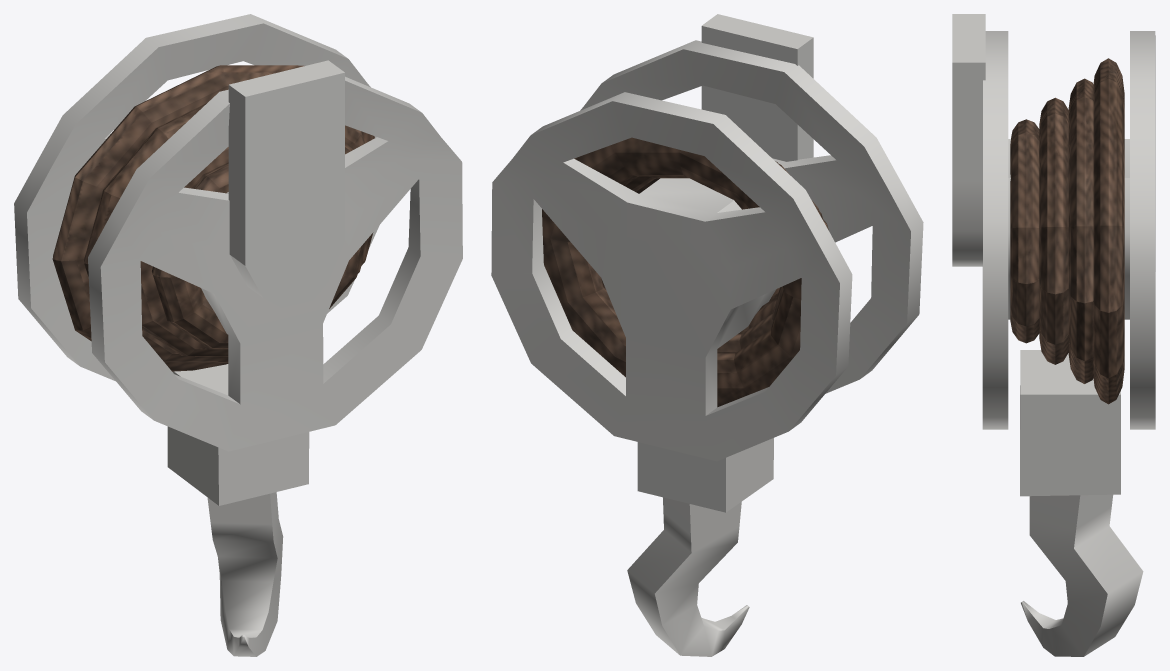
Rendered from Polea.fbx.
3 views of the same model, side by side, from view 1: azimuth 30°, elevation 25°; view 2: azimuth 150°, elevation 25°; view 3: azimuth 270°, elevation 25° (orthographic). The views are drawn at different scales.
Parts seen in each view (by area): view 1: Cube.014; view 2: Cube.014; view 3: Cube.014.
Boxes of the visible parts, x1,y1,x2,y2 form: Cube.014: (14, 14, 462, 656); Cube.014: (491, 14, 923, 656); Cube.014: (952, 14, 1155, 656).
Size of the model in its own units: 224 by 360 by 109.
Materials: 2 (2 with a texture image).
